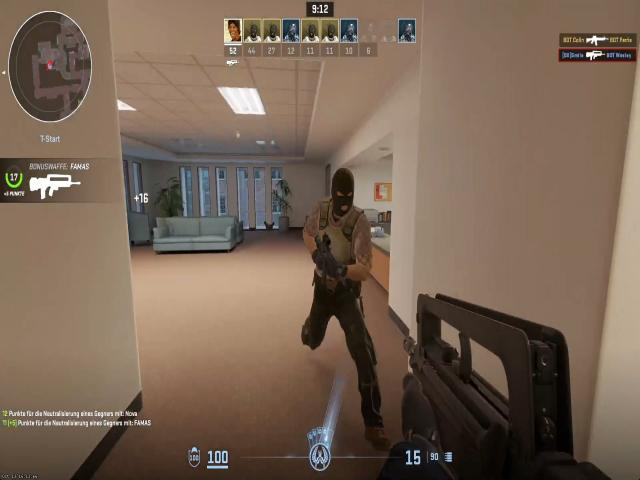T: (306, 161, 367, 387)
T-Head: (328, 164, 361, 220)
